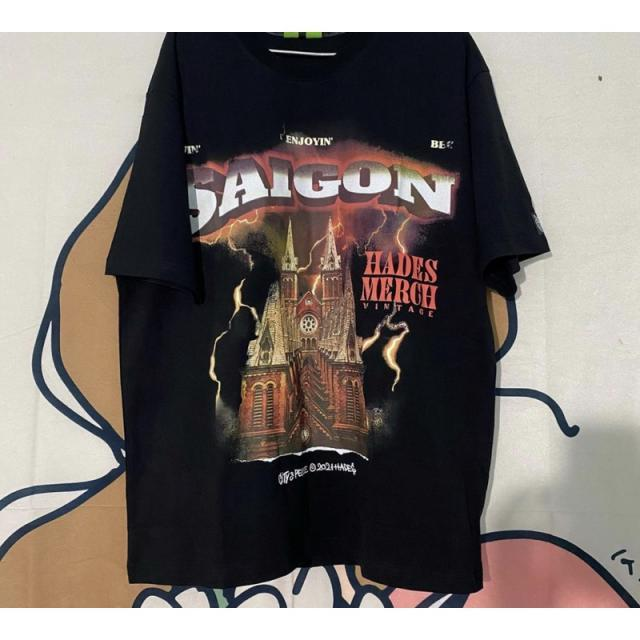Shirt: (100, 31, 550, 597)
